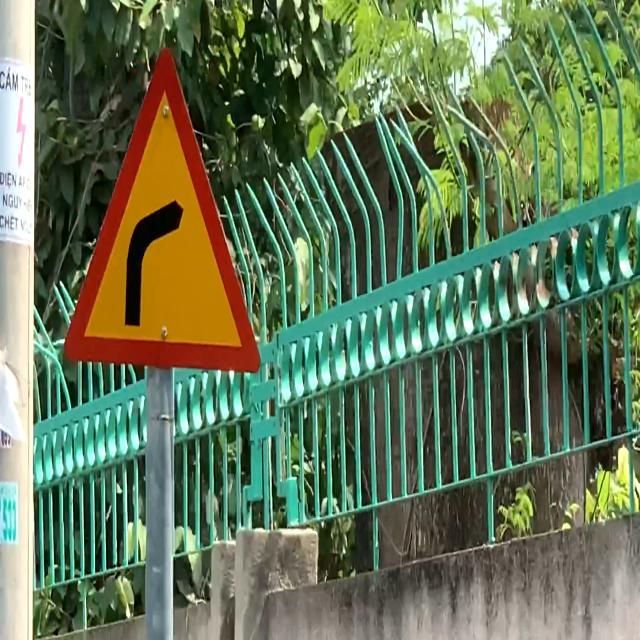W.201b: (49, 26, 272, 401)
